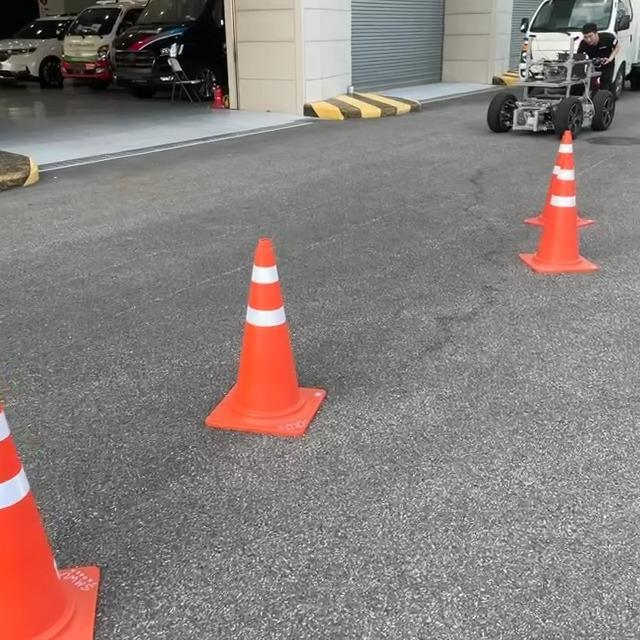fallen_object: (188, 242, 390, 491), (0, 376, 108, 639), (512, 142, 628, 290)
